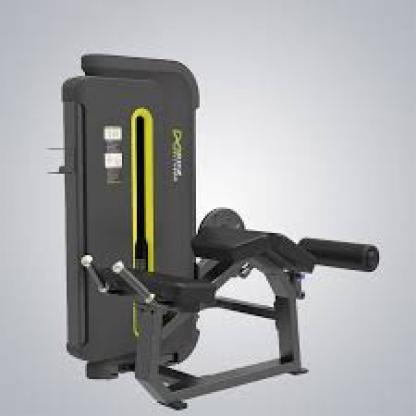reg curl machine: (47, 49, 384, 412)
